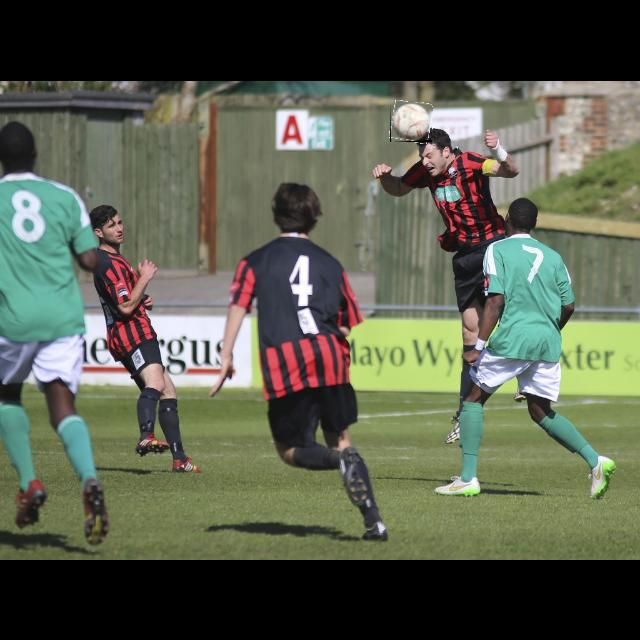Football: (390, 102, 432, 142)
